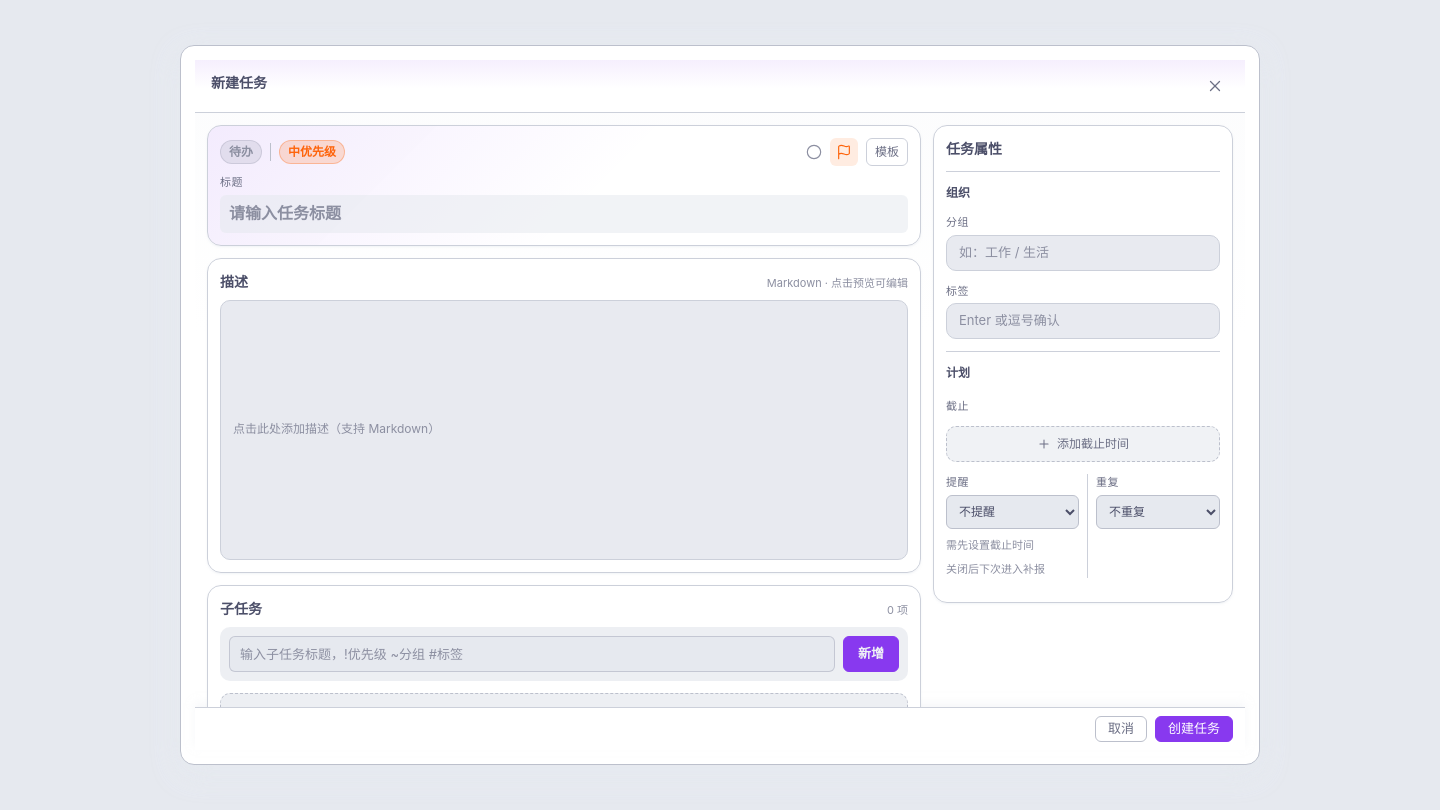
Test: TaskEditor compact layout › opens the complete template menu from the title workspace
The image size is (1440, 810).
What coordinates should you click on to do the following:
click the button with test id "template-menu-trigger"
I would click on:
 (887, 152)
Its box is [866,138,908,166].
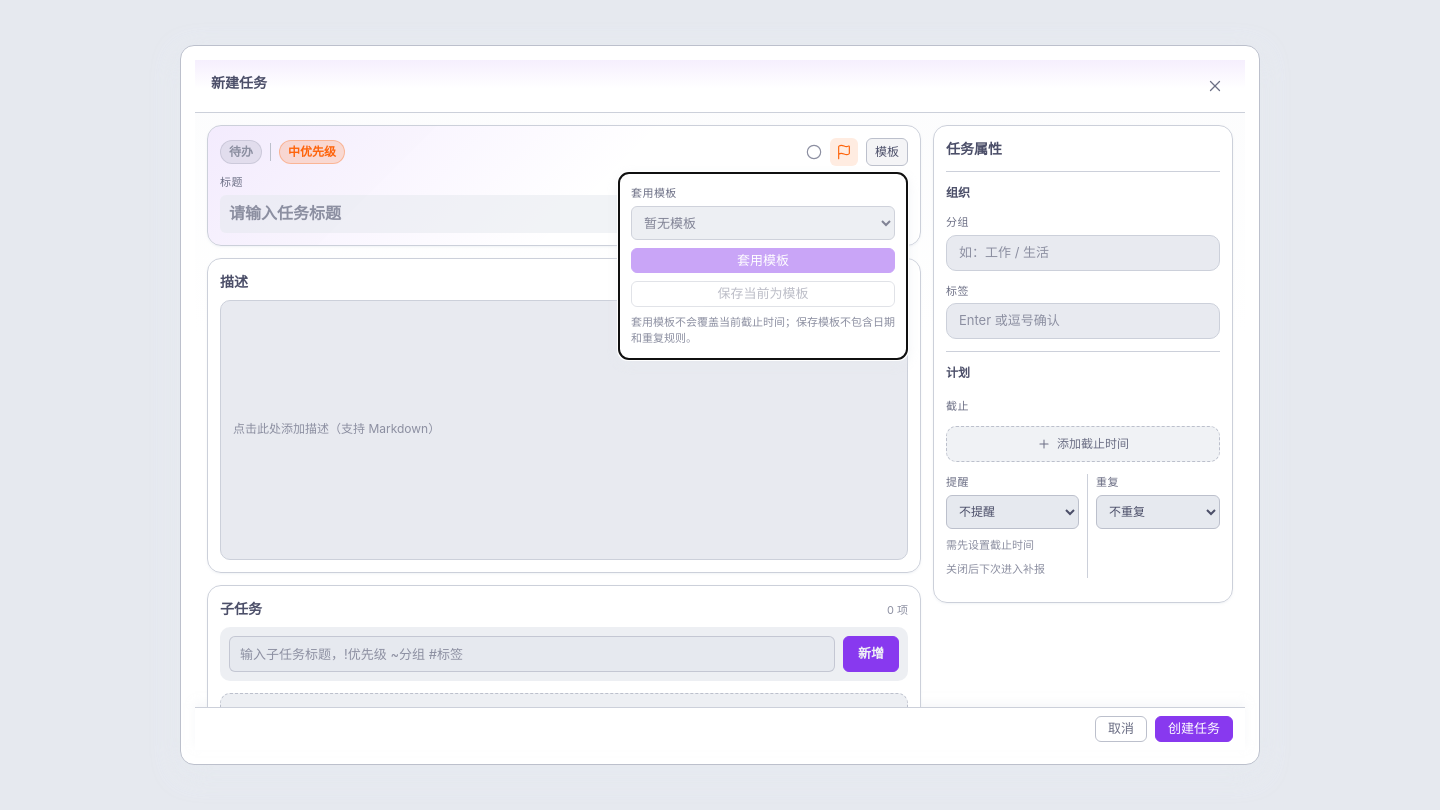
Expected: the dialog with test id "template-menu" is shown, [618,172,908,360]
Expected: the dialog with test id "template-menu" shows "套用模板", [631,186,677,200]
Expected: the dialog with test id "template-menu" shows "保存当前为模板", [631,281,895,307]
